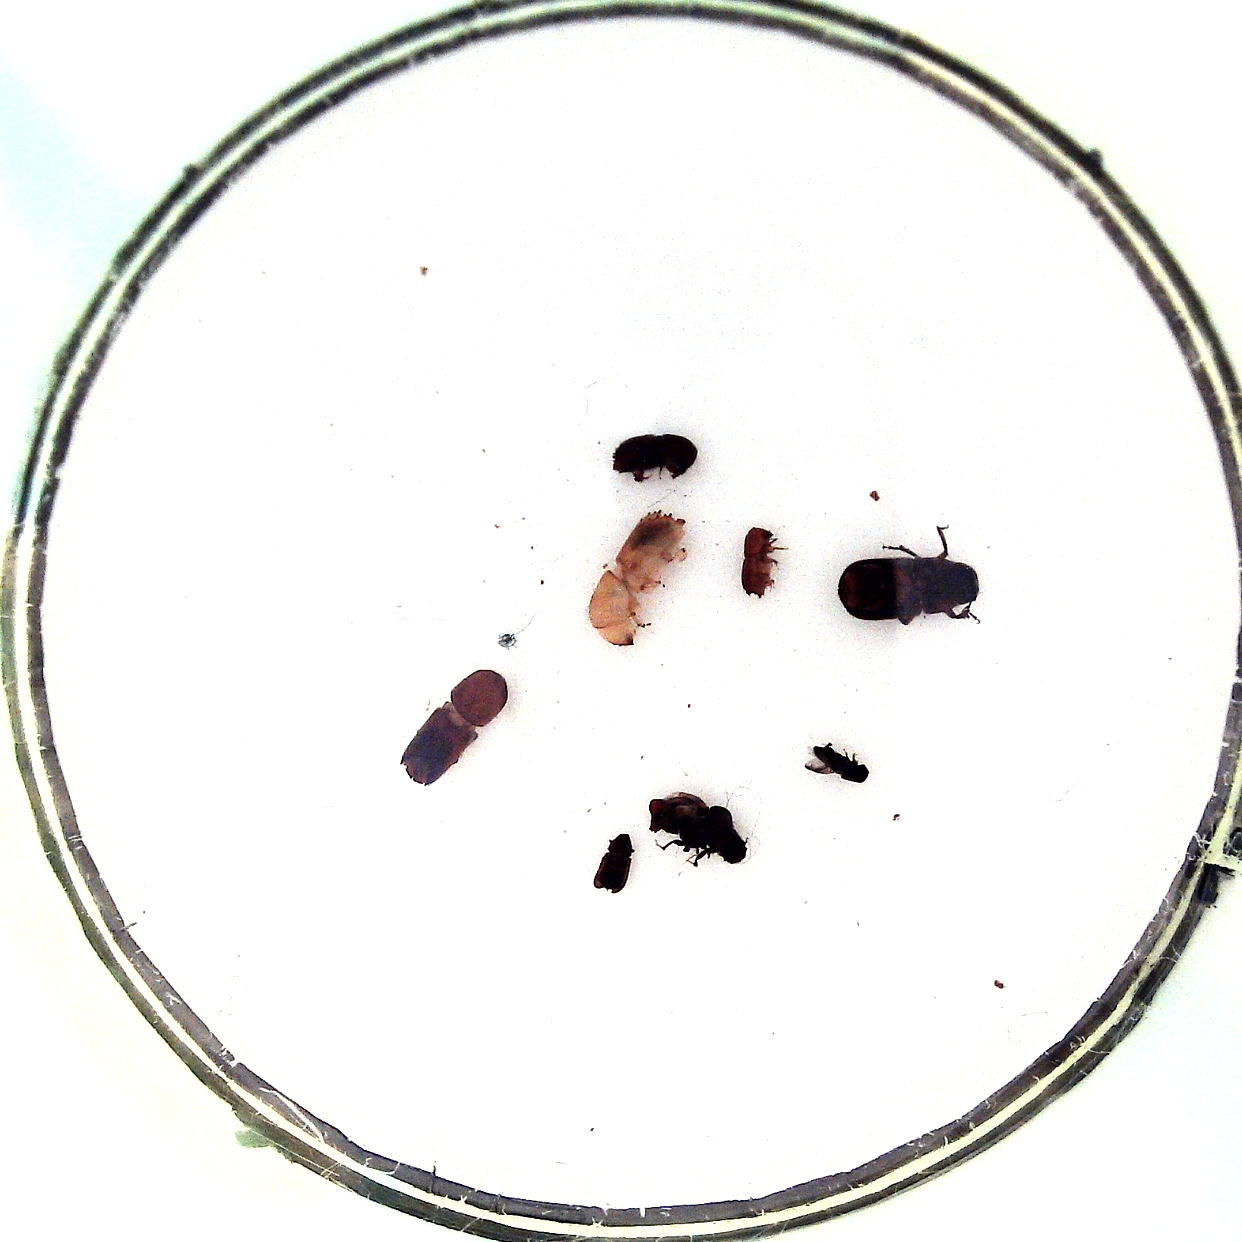Boerner: (588, 511, 688, 646), (400, 670, 510, 787)
Leconte: (838, 557, 979, 622)
acuminatus: (812, 746, 869, 784)
armandi: (649, 792, 747, 866)
coleoptera: (593, 833, 632, 894), (742, 527, 775, 598)
linnaeus: (613, 433, 698, 479)
